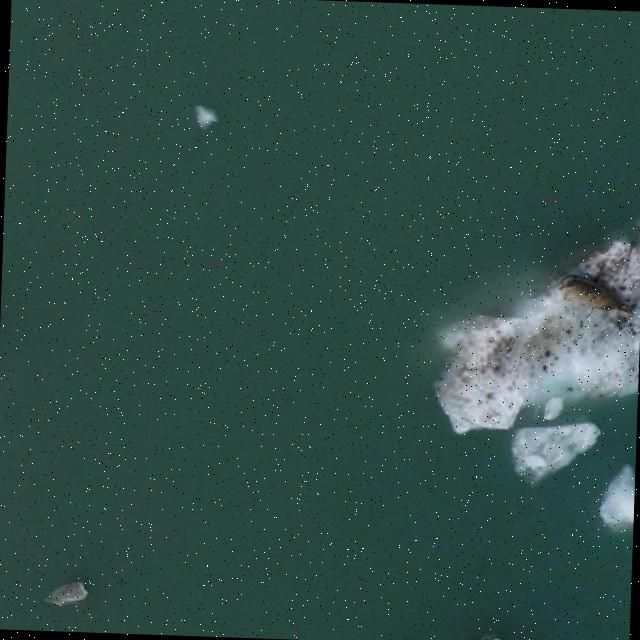seal: (553, 267, 637, 320)
